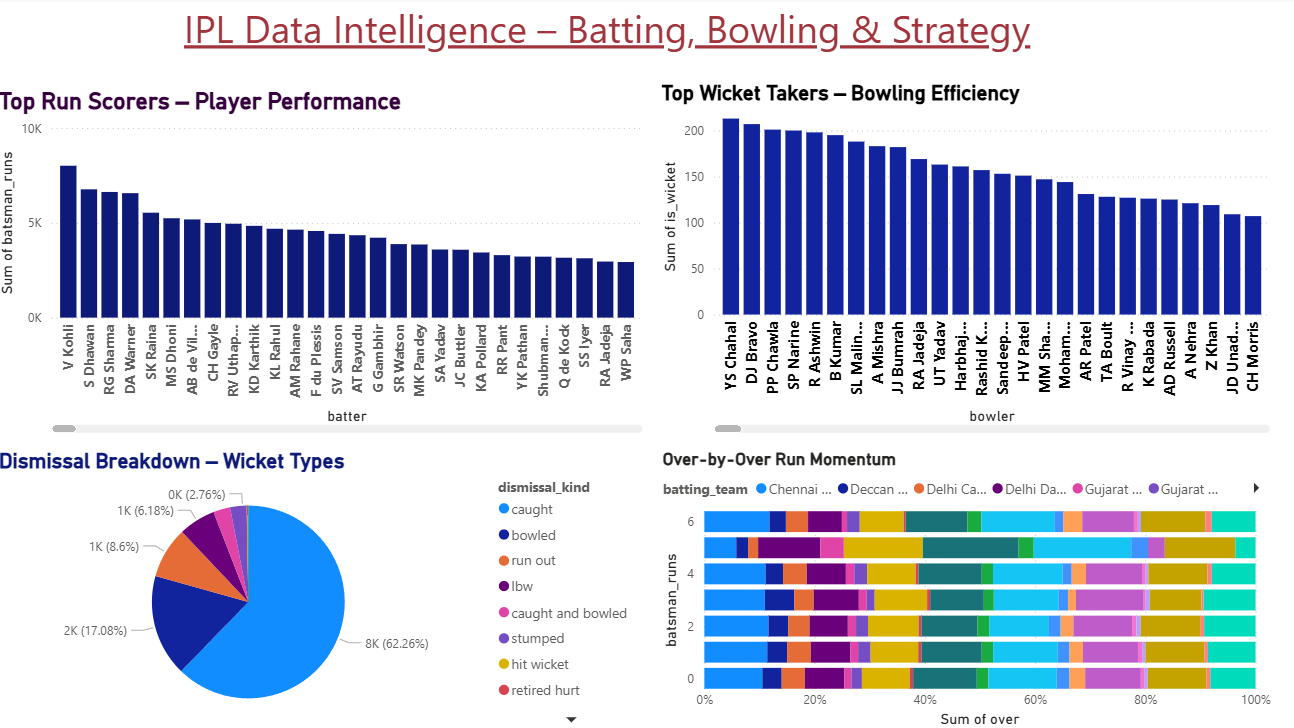

The dashboard page shown, as its layout file describes it:
{"tool":"powerbi","page":{"name":"Page 1","canvas":[1280,720],"ordinal":0},"visuals":[{"type":"columnChart","title":"Top Run Scorers – Player Performance","fields":{"Category":["deliveries.batter"],"Y":["deliveries.batsman_runs"]},"box":[0,88,639.5,343.6],"z":0},{"type":"columnChart","title":"Top Wicket Takers – Bowling Efficiency","fields":{"Category":["deliveries.bowler"],"Y":["deliveries.is_wicket"]},"box":[648.1,81.9,605.3,349.7],"z":1000},{"type":"hundredPercentStackedBarChart","title":"Over-by-Over Run Momentum","fields":{"Y":["deliveries.over"],"Category":["deliveries.batsman_runs"],"Series":["deliveries.batting_team"]},"box":[649,442,605,278],"z":1002},{"type":"pieChart","title":"Dismissal Breakdown – Wicket Types","fields":{"Category":["deliveries.dismissal_kind"],"Y":["deliveries.is_wicket"]},"box":[0,442,640,278],"z":1003},{"type":"textbox","box":[127.2,0,945.2,59.9],"z":1004}]}

Visuals, with their boxes in screenshot pixels (x1, y1, x2, y2), scaled from the page's 1280x720 canvas onto the 1294x728 screenshot:
"Top Run Scorers – Player Performance" columnChart: (0, 89, 646, 436)
"Top Wicket Takers – Bowling Efficiency" columnChart: (655, 83, 1267, 436)
"Over-by-Over Run Momentum" hundredPercentStackedBarChart: (656, 447, 1268, 727)
"Dismissal Breakdown – Wicket Types" pieChart: (0, 447, 647, 727)
textbox: (129, 0, 1084, 61)
